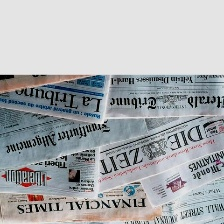news_paper: (72, 115, 224, 204), (0, 102, 150, 172), (0, 174, 164, 222), (0, 72, 114, 129), (93, 175, 224, 223), (95, 74, 224, 122), (0, 144, 102, 201), (134, 148, 224, 212), (0, 74, 105, 99)
